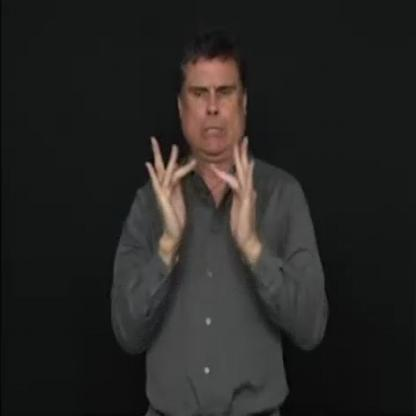Internet: (145, 130, 258, 250)
